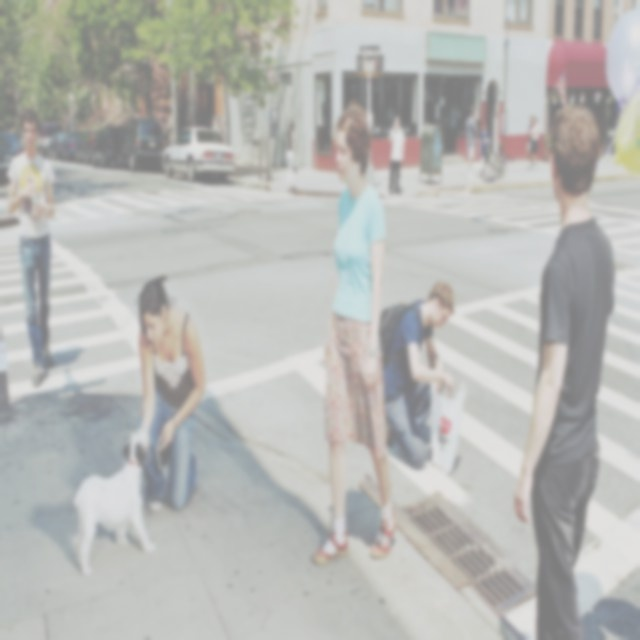pessoa: (512, 97, 618, 638), (308, 99, 398, 569), (133, 270, 209, 518), (5, 104, 57, 388), (383, 278, 457, 473), (387, 112, 406, 196), (464, 105, 480, 181), (285, 118, 298, 193), (478, 120, 490, 180), (449, 95, 461, 151), (528, 116, 540, 170), (526, 114, 536, 170), (386, 102, 396, 132), (212, 114, 222, 138)
